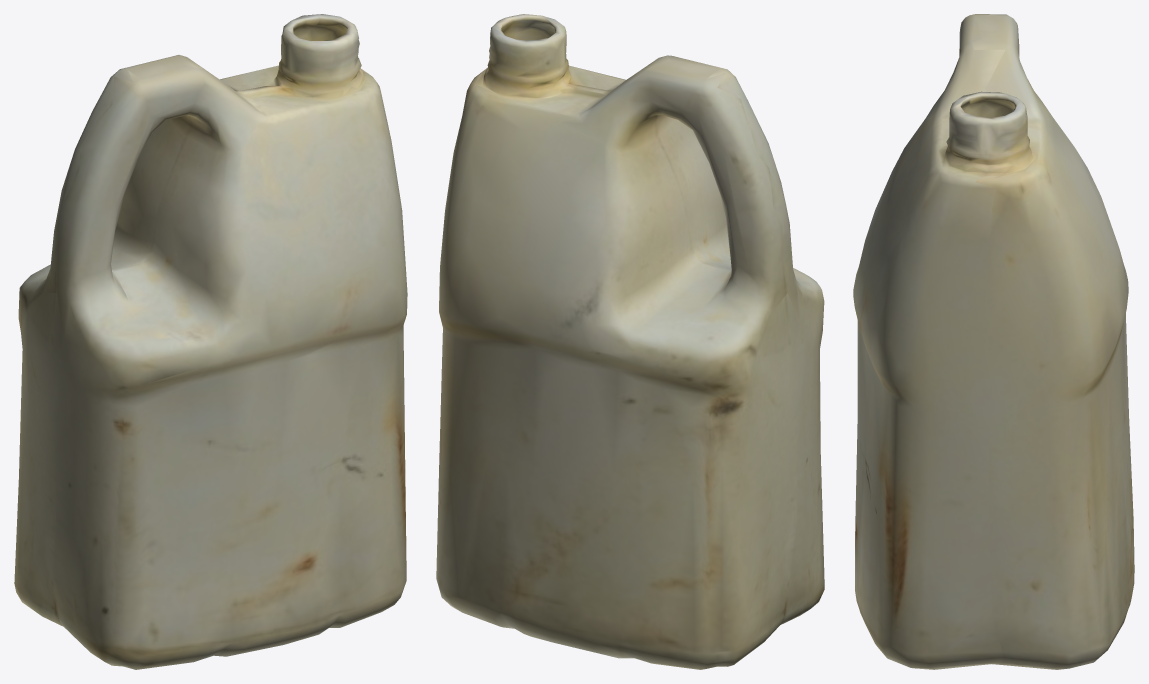
Rendered from plastic_bottle_gallon.fbx.
The picture shows the model from 3 angles, left to right: view 1: azimuth 30°, elevation 25°; view 2: azimuth 150°, elevation 25°; view 3: azimuth 270°, elevation 25°; orthographic projection.
Visible parts, largest first — view 1: plastic_bottle_gallon; view 2: plastic_bottle_gallon; view 3: plastic_bottle_gallon.
Boxes of the visible parts, bbox=[...] form: plastic_bottle_gallon: bbox=[14, 14, 407, 669]; plastic_bottle_gallon: bbox=[436, 14, 824, 669]; plastic_bottle_gallon: bbox=[853, 14, 1134, 669].
Size of the model in its own units: 16.64 by 27.46 by 12.64.
